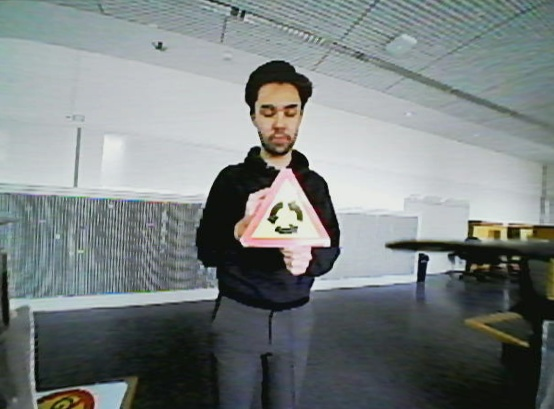roundabout_warning: (237, 163, 338, 251)
